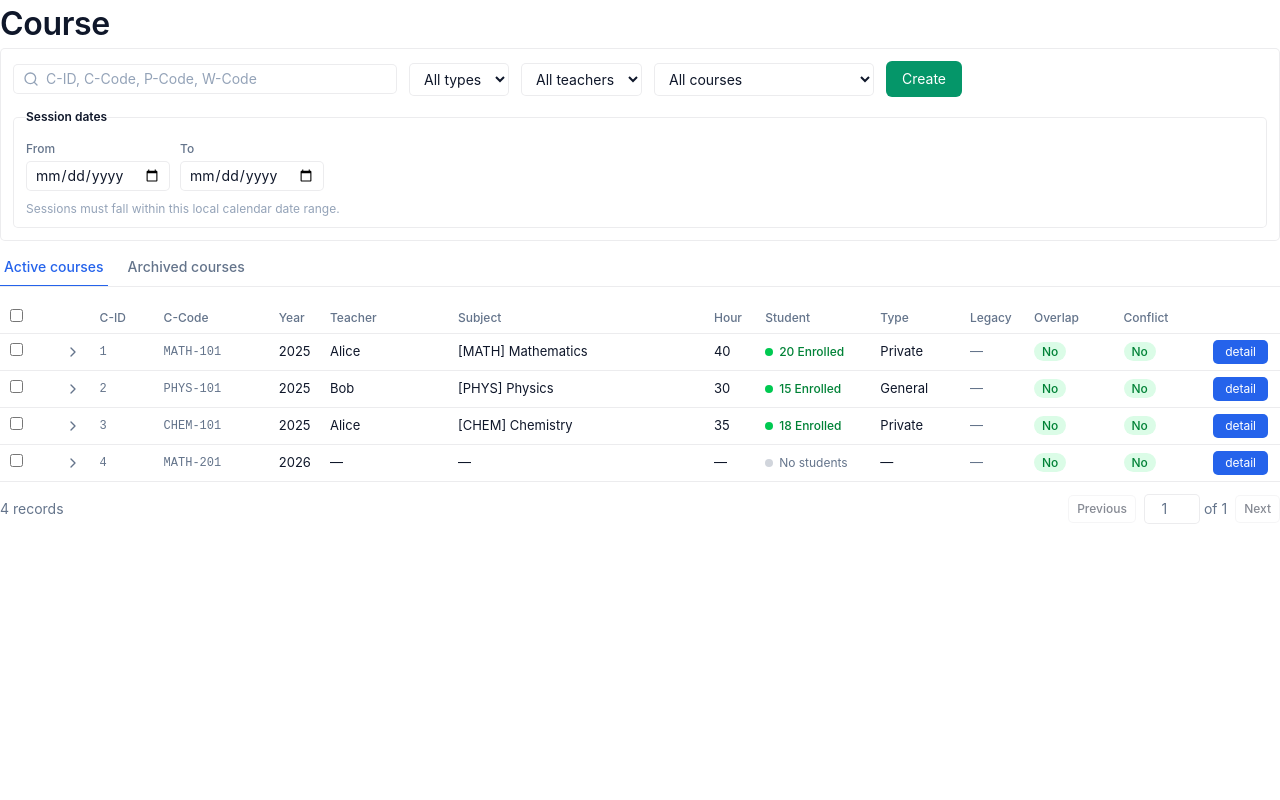
Test: Courses bulk editor › opens confirmation modal when Delete Selected is clicked
Expected: the text "MATH-101" is shown, [164,344,221,360]
Step 1. Click the checkbox named "Select MATH-101" → (16, 350), box [10,343,23,356]
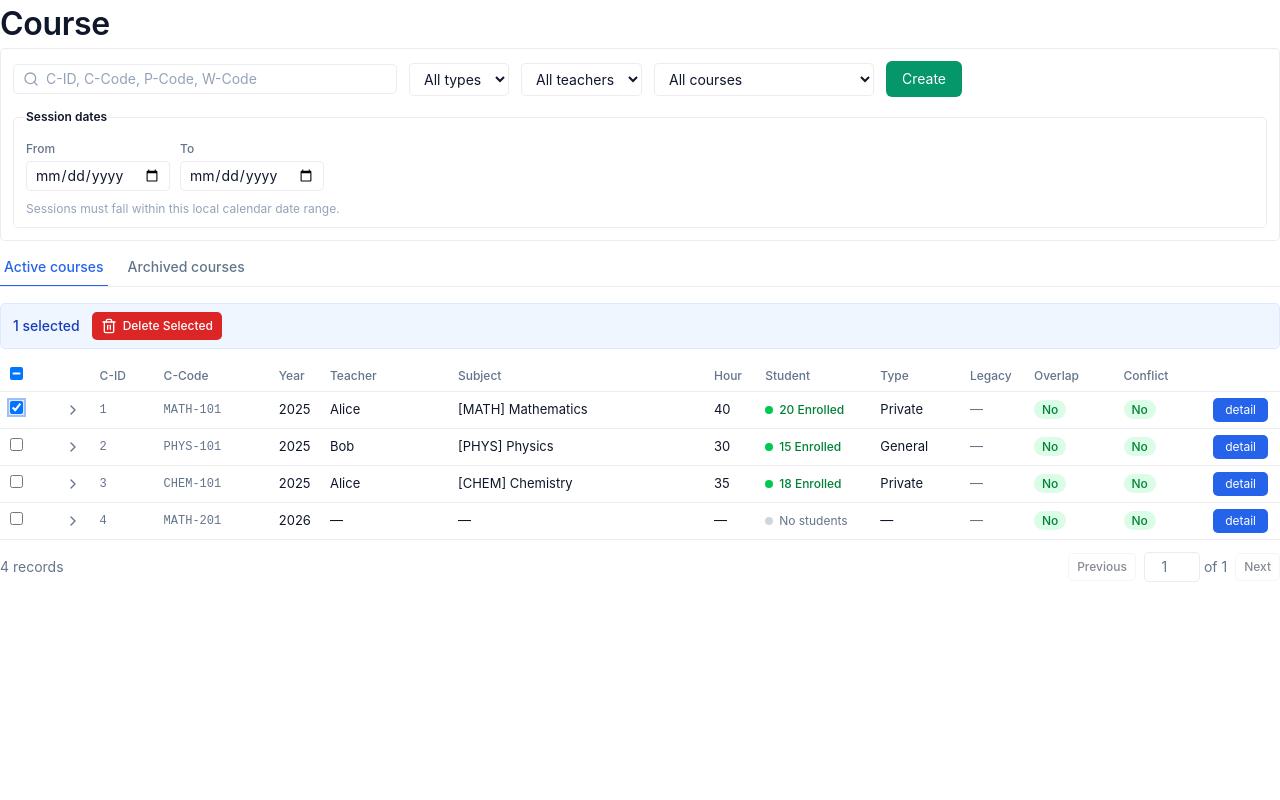
Expected: the button "Delete Selected" is shown
Step 2. Click the button "Delete Selected" → (157, 326), box [92,312,222,340]
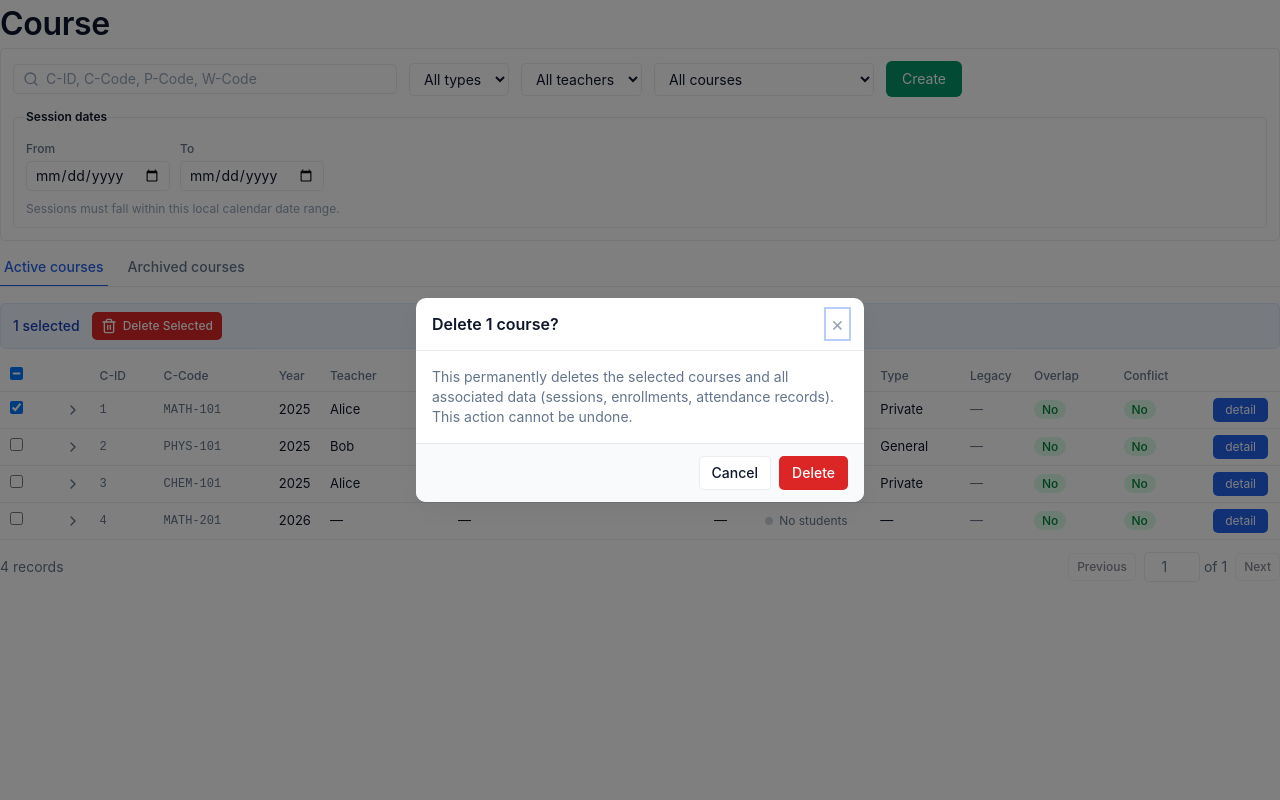
Expected: the heading "Delete 1 course?" is shown, [432,312,559,336]
